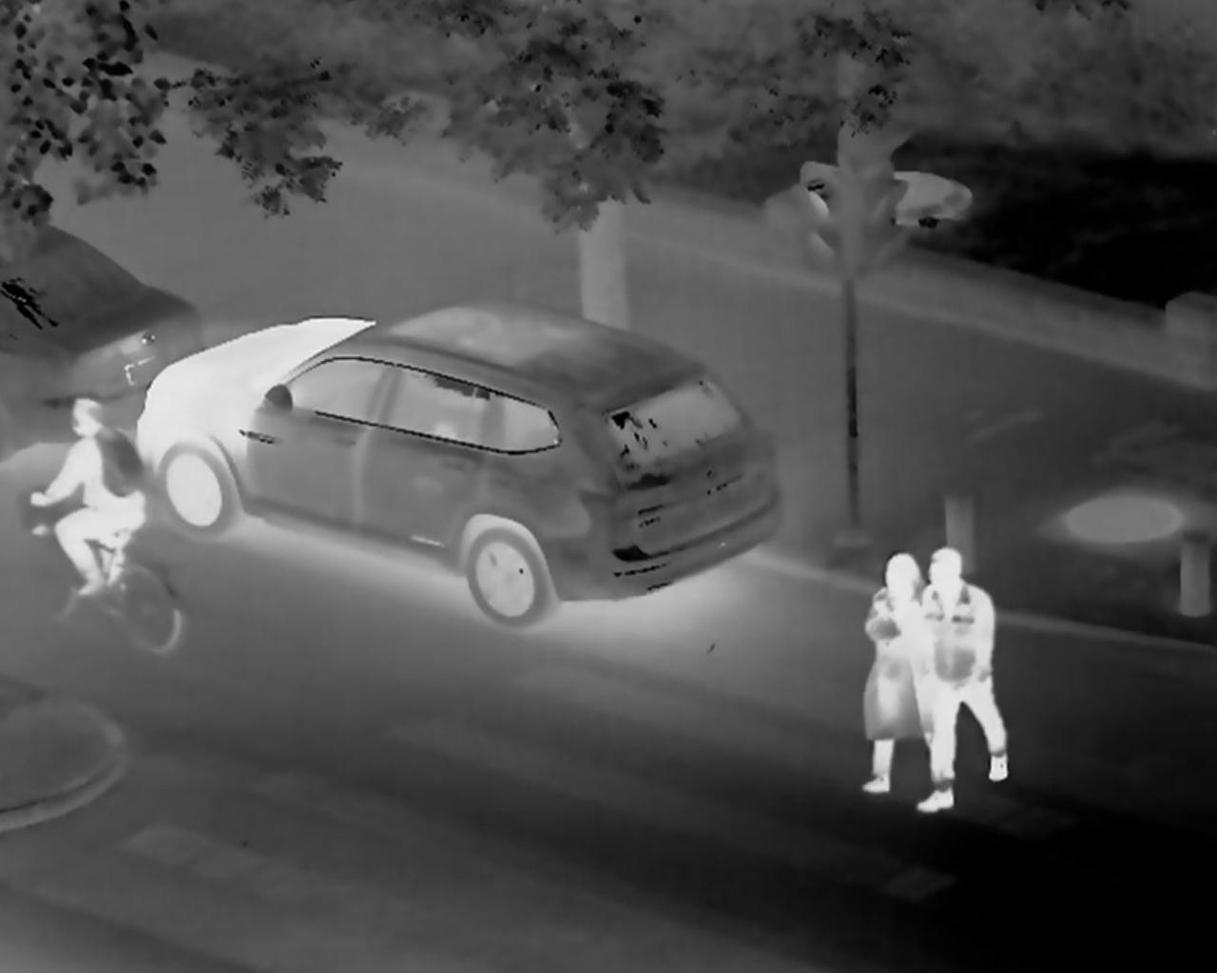person: (930, 525, 1015, 826), (39, 391, 140, 581), (860, 529, 925, 780)
